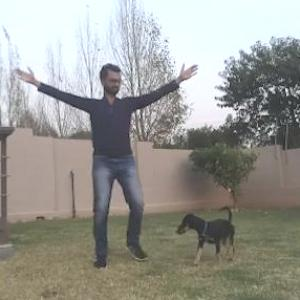takeoff: (16, 48, 195, 266)
